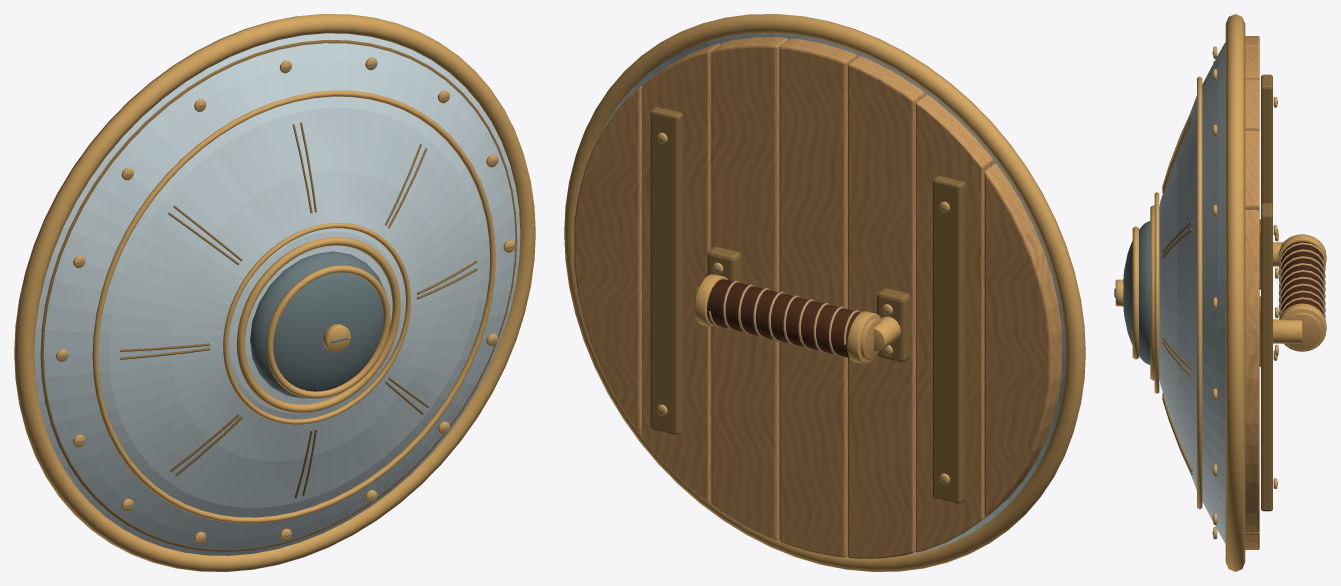
Rendered from short.glb.
The picture shows the model from 3 angles, left to right: view 1: azimuth 30°, elevation 25°; view 2: azimuth 150°, elevation 25°; view 3: azimuth 270°, elevation 25°; orthographic projection. The views are drawn at different scales.
Visible parts, largest first — view 1: Render_short; view 2: Render_short; view 3: Render_short.
Part boxes in pixels (left/top/right/bottom): Render_short: left=14, top=14, right=535, bottom=571; Render_short: left=564, top=14, right=1085, bottom=571; Render_short: left=1114, top=14, right=1326, bottom=571.
Bounding box in the file's own units: 0.46 × 0.46 × 0.1747.
9 materials, 9 textured.
